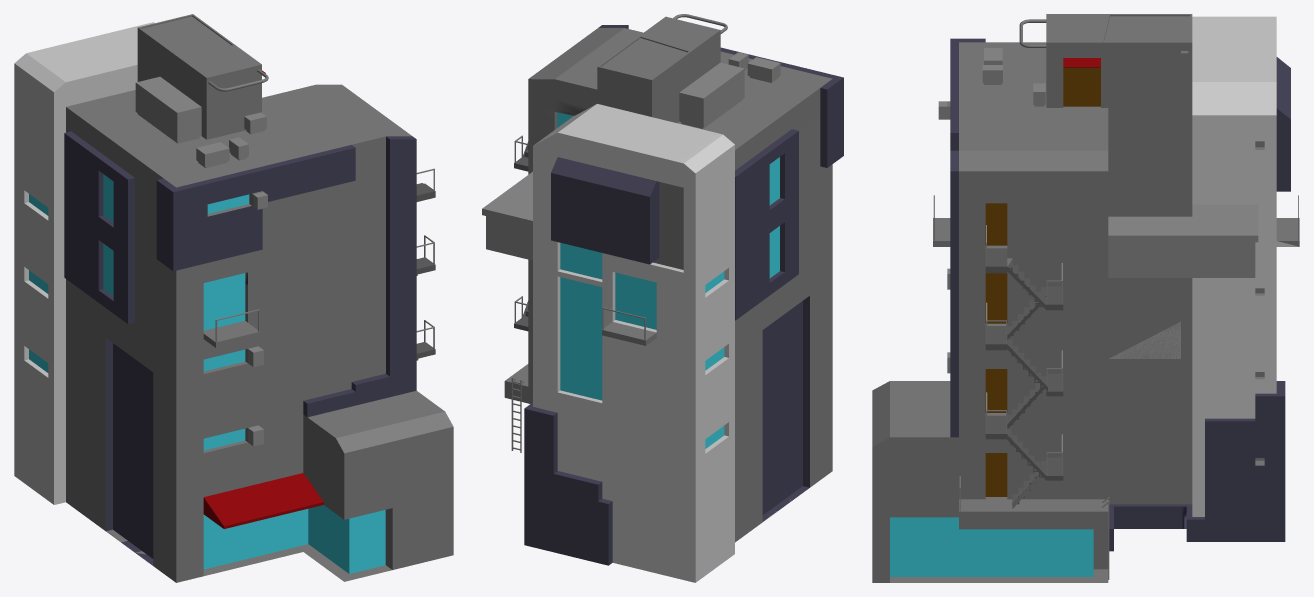
The picture shows the model from 3 angles, left to right: view 1: azimuth 30°, elevation 25°; view 2: azimuth 150°, elevation 25°; view 3: azimuth 270°, elevation 25°; orthographic projection. The views are drawn at different scales.
Visible parts, largest first — view 1: Hause01, Hause01.009, Hause01.004, Hause01.001, Hause01.008, Hause01.013, Hause01.005, Hause01.012, Hause01.003; view 2: Hause01.009, Hause01, Hause01.004, Hause01.001, Hause01.013, Hause01.008, Hause01.005, Hause01.015; view 3: Hause01, Hause01.009, Hause01.004, Hause01.011, Hause01.015, Hause01.003, Hause01.002, Hause01.005, Hause01.007, Hause01.017.
Part boxes in pixels (<box>): Hause01: <box>66,14,453,582</box>; Hause01.009: <box>14,22,154,504</box>; Hause01.004: <box>156,136,416,417</box>; Hause01.001: <box>29,174,385,573</box>; Hause01.008: <box>64,131,134,323</box>; Hause01.013: <box>105,338,153,565</box>; Hause01.005: <box>135,76,267,446</box>; Hause01.012: <box>203,473,323,528</box>; Hause01.003: <box>416,183,435,360</box>; Hause01.009: <box>533,104,734,582</box>; Hause01: <box>504,14,832,542</box>; Hause01.004: <box>524,25,843,565</box>; Hause01.001: <box>557,112,779,448</box>; Hause01.013: <box>762,296,809,521</box>; Hause01.008: <box>735,129,798,320</box>; Hause01.005: <box>511,52,780,452</box>; Hause01.015: <box>482,171,532,260</box>; Hause01: <box>872,14,1299,582</box>; Hause01.009: <box>1192,16,1299,516</box>; Hause01.004: <box>950,38,1290,551</box>; Hause01.011: <box>890,517,1093,576</box>; Hause01.015: <box>1108,204,1258,277</box>; Hause01.003: <box>985,248,1063,504</box>; Hause01.002: <box>985,203,1007,496</box>; Hause01.005: <box>933,48,1298,579</box>; Hause01.007: <box>1063,67,1100,106</box>; Hause01.017: <box>959,225,1062,511</box>.
Bounding box in the file's own units: 1200 × 1849 × 1480.
